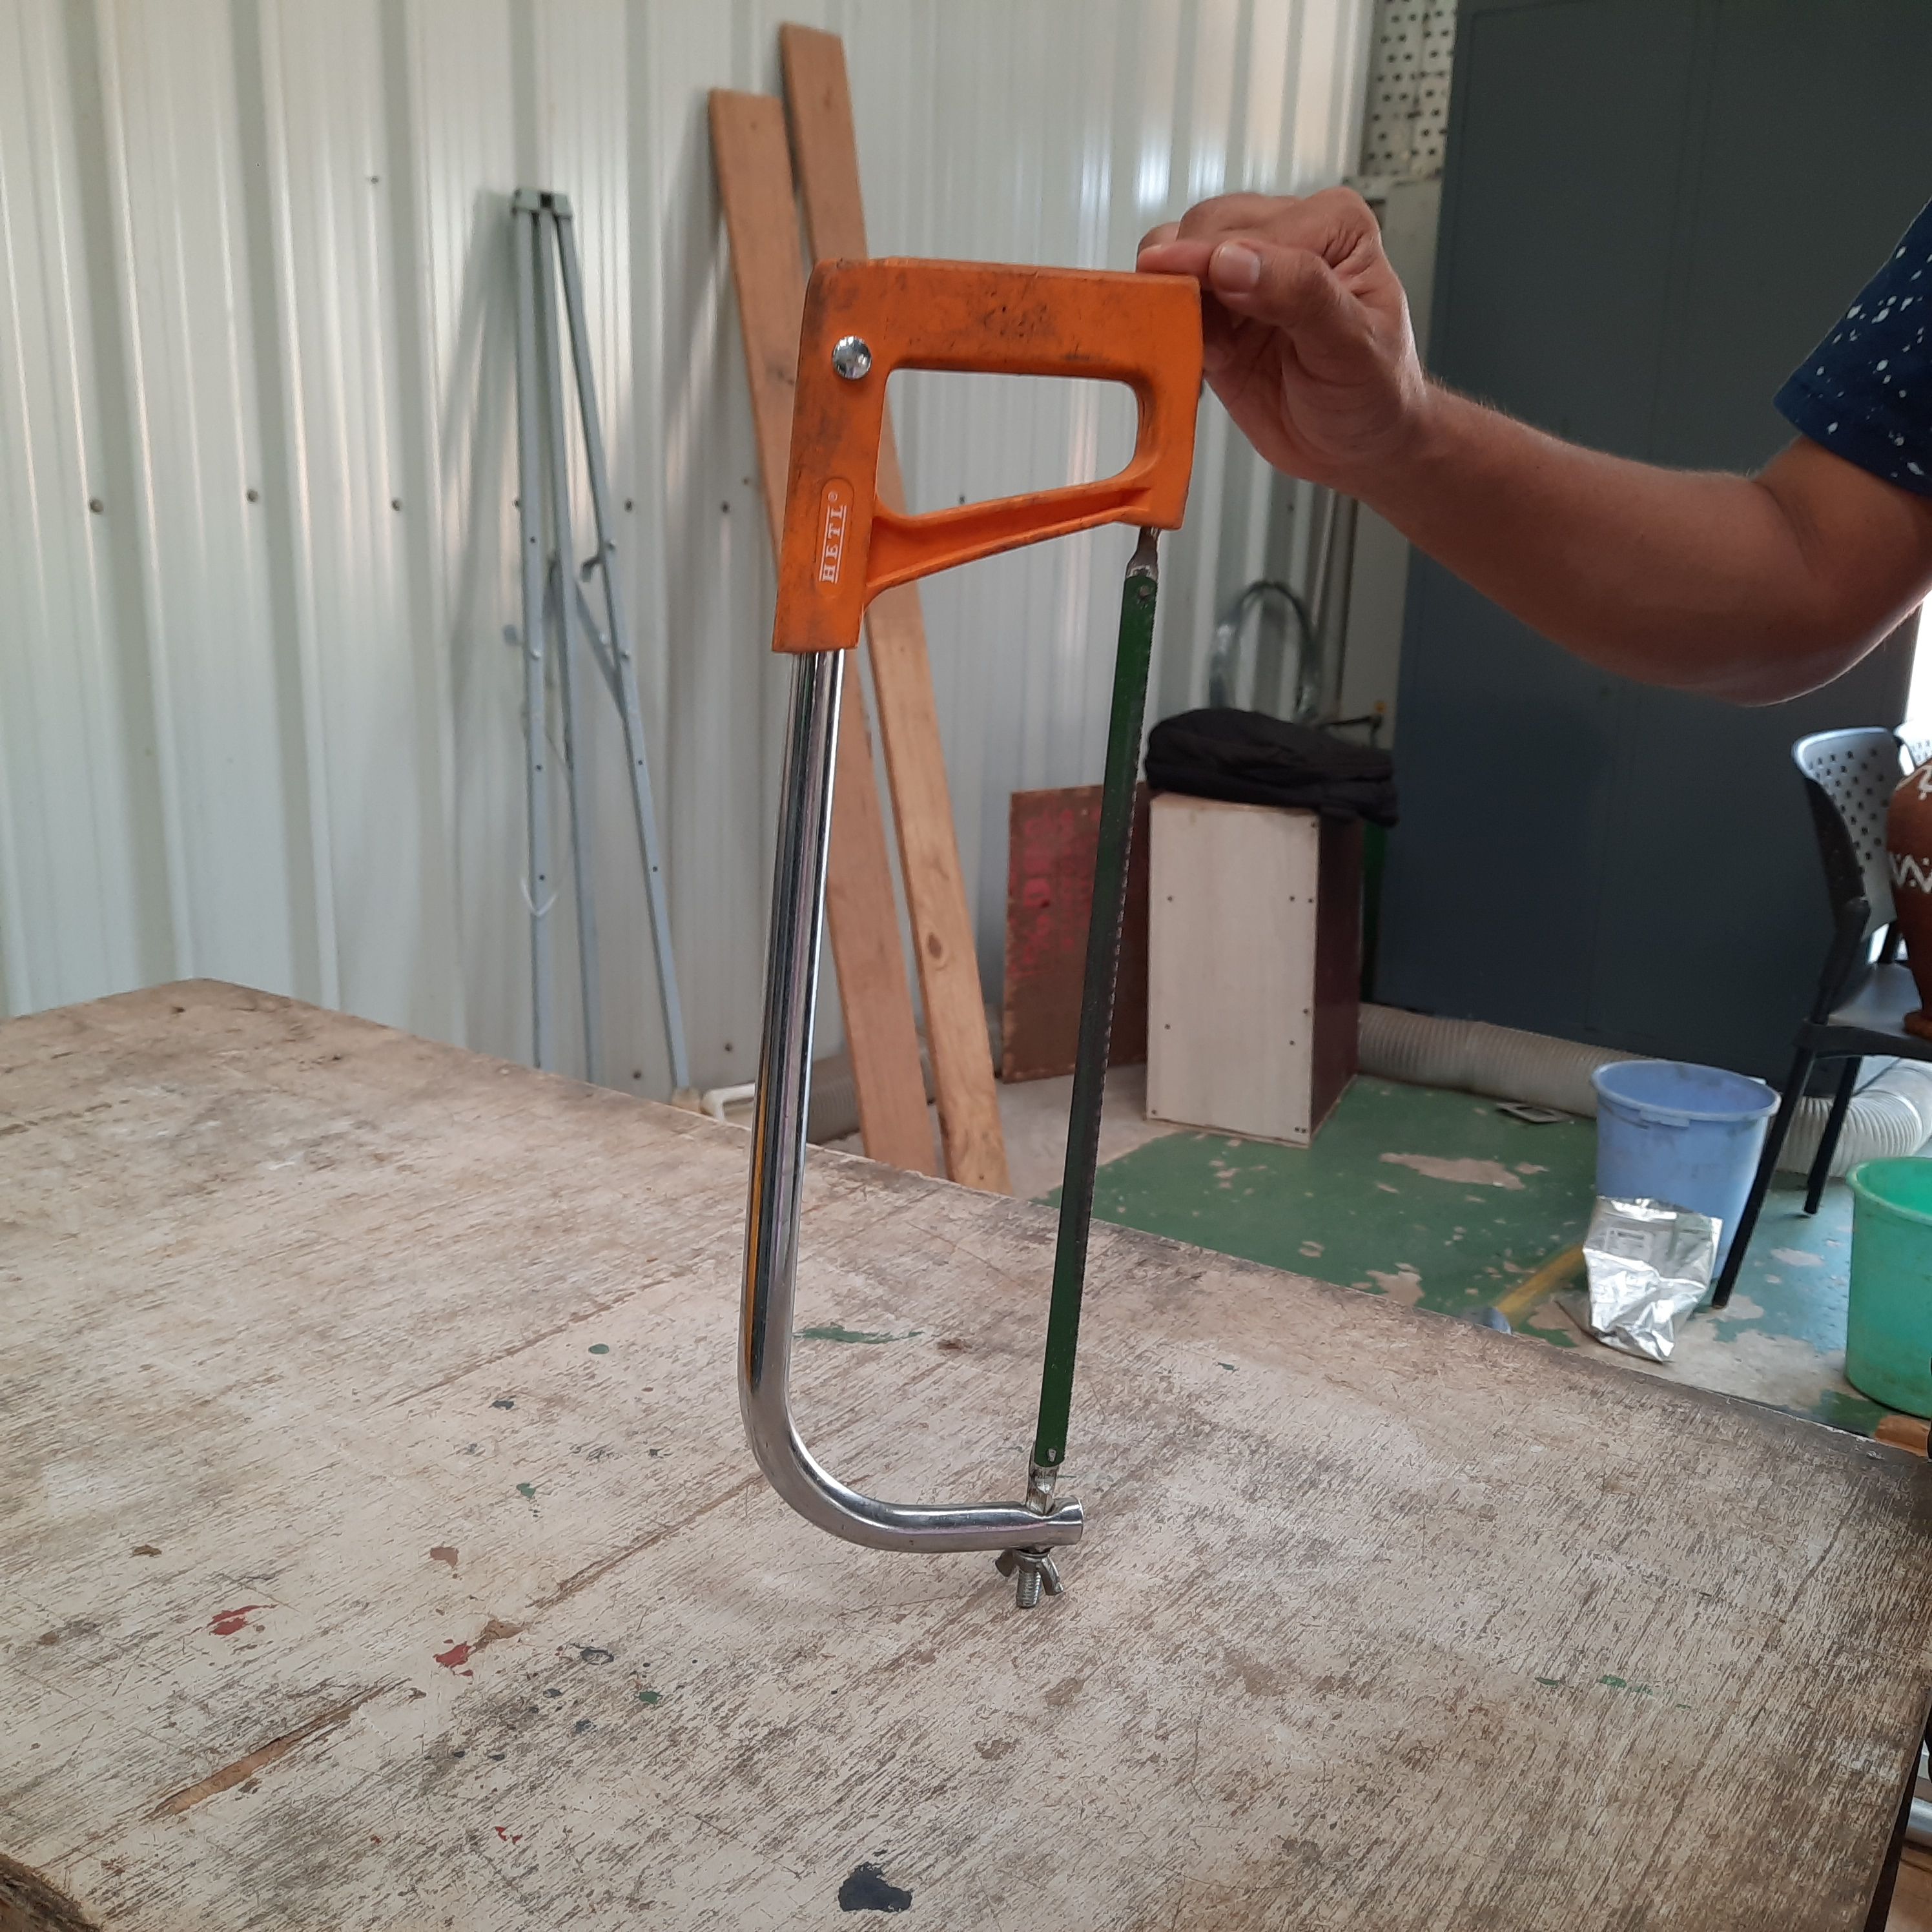Hexaframe: (740, 255, 1192, 1606)
